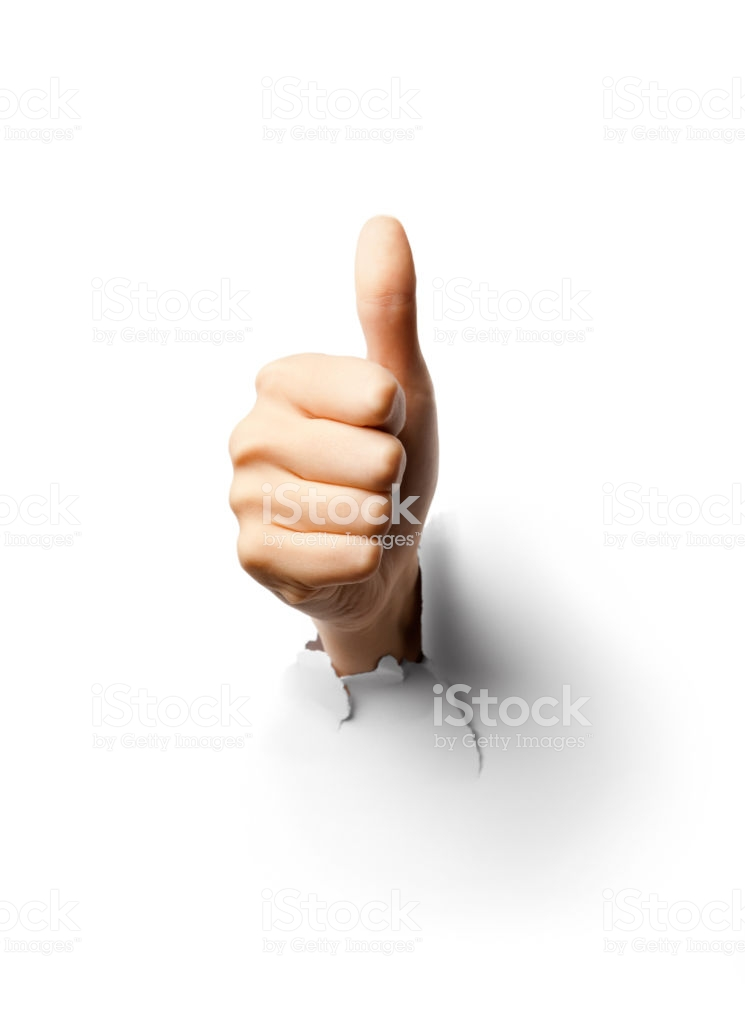thumbsup: (227, 213, 443, 620)
